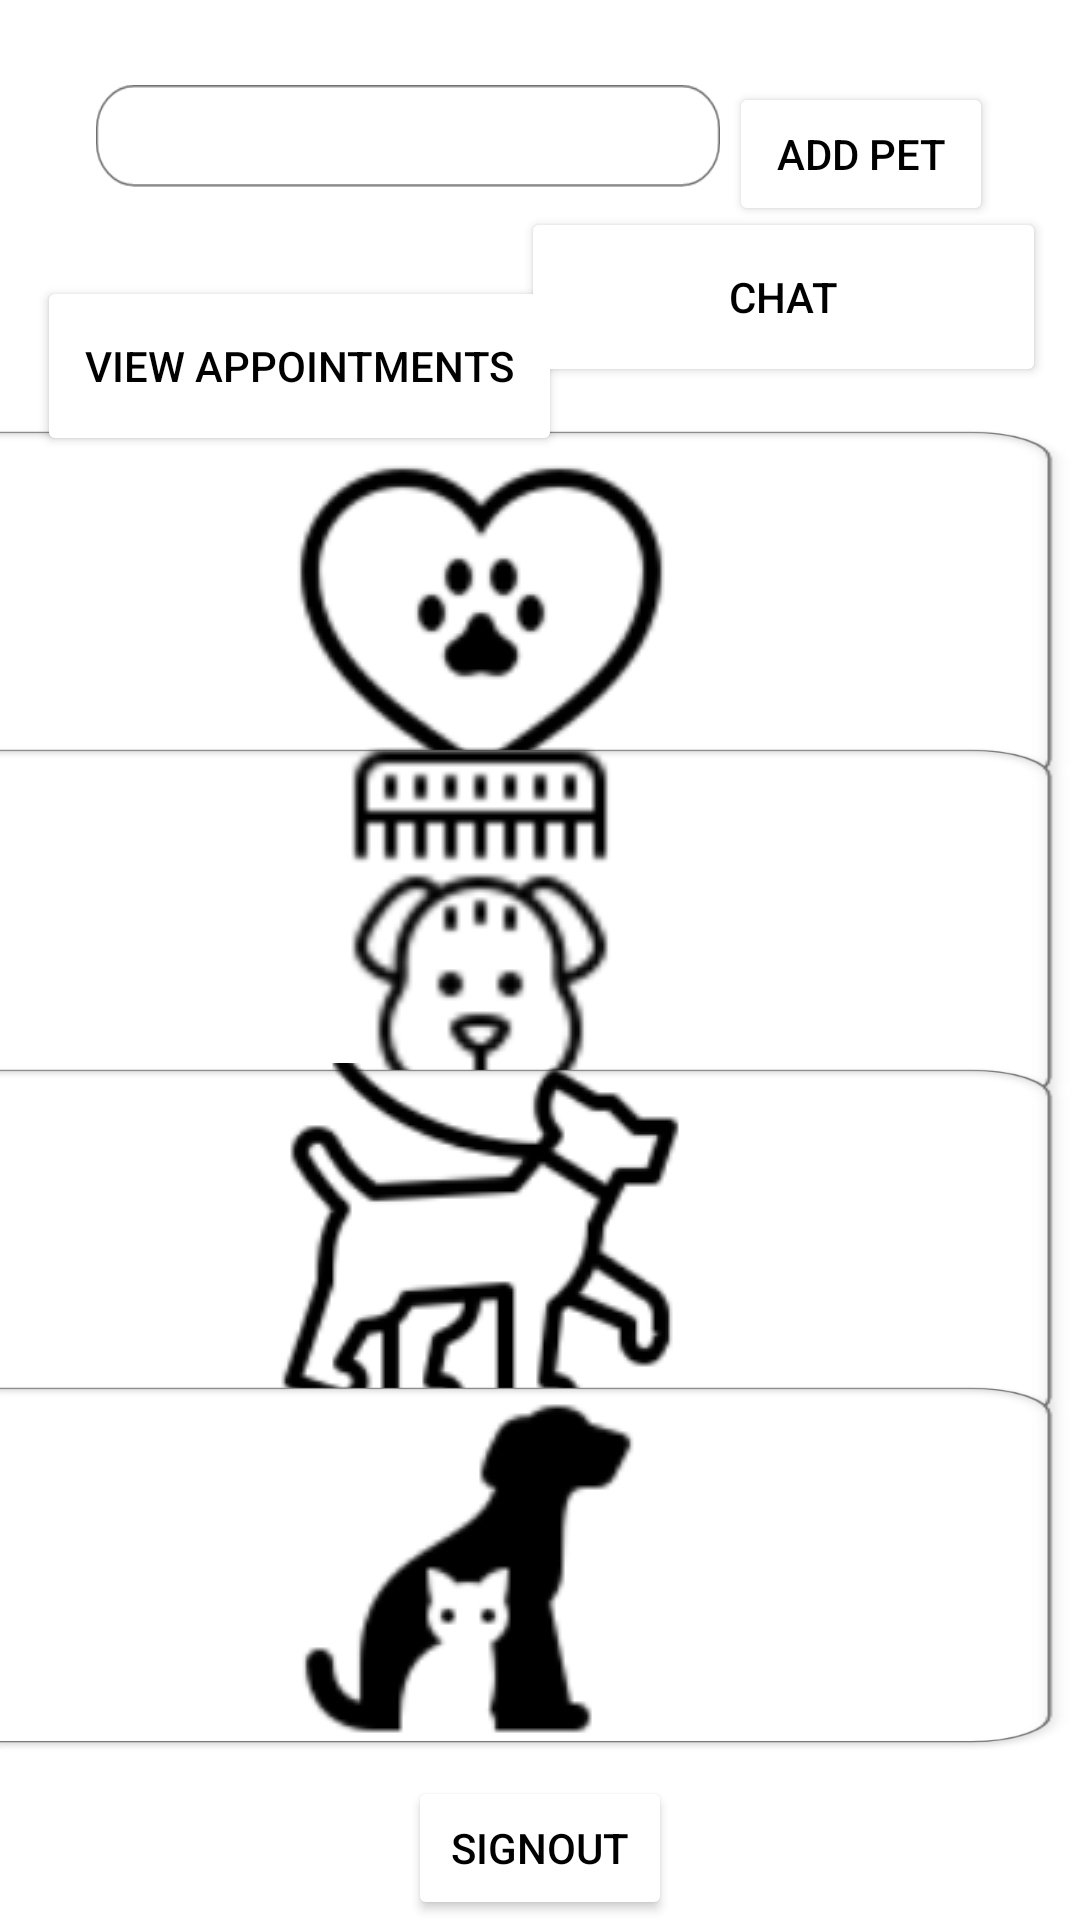

Icon bounding boxes for this 1080px×1920px phone screenshot, format (x1, y1, x2, y2):
pets: (304, 1404, 633, 1733)
